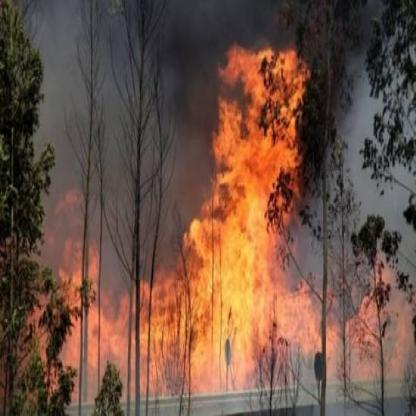fire: (41, 43, 395, 391)
